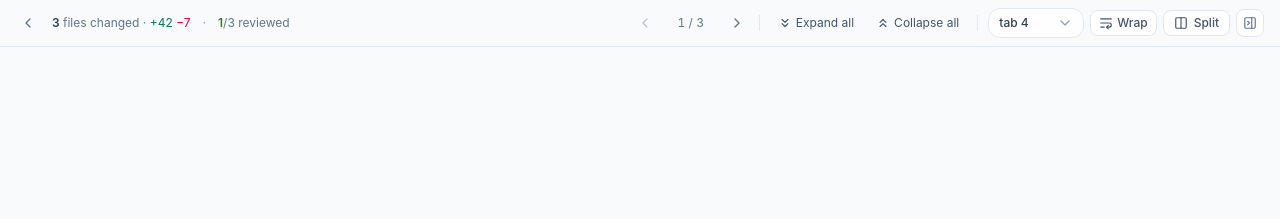
Test: CodeReviewToolbar › exposes a tab-width selector with values 2 / 4 / 8
Step 1. Click the dropdown named "tab width" → (1036, 23), box left=988, top=8, right=1084, bottom=38
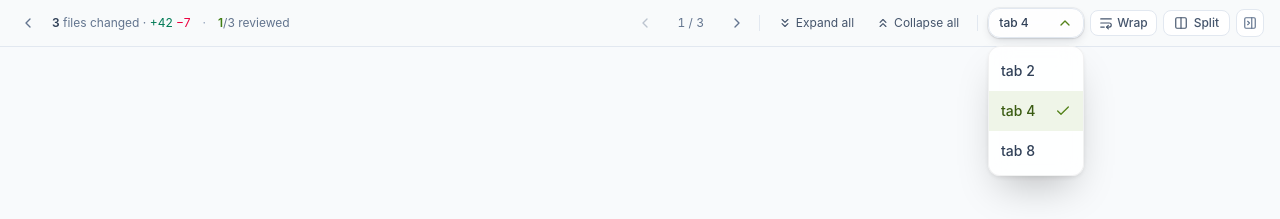
Now the option "tab 2" is shown, box left=989, top=51, right=1083, bottom=91
Now the option "tab 4" is shown, box left=989, top=91, right=1083, bottom=131
Now the option "tab 8" is shown, box left=989, top=131, right=1083, bottom=171
